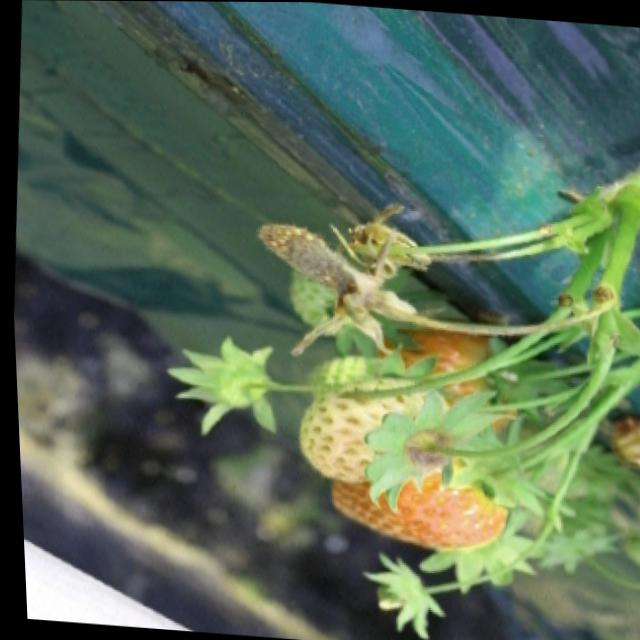Gray Mold: (253, 221, 418, 356)
